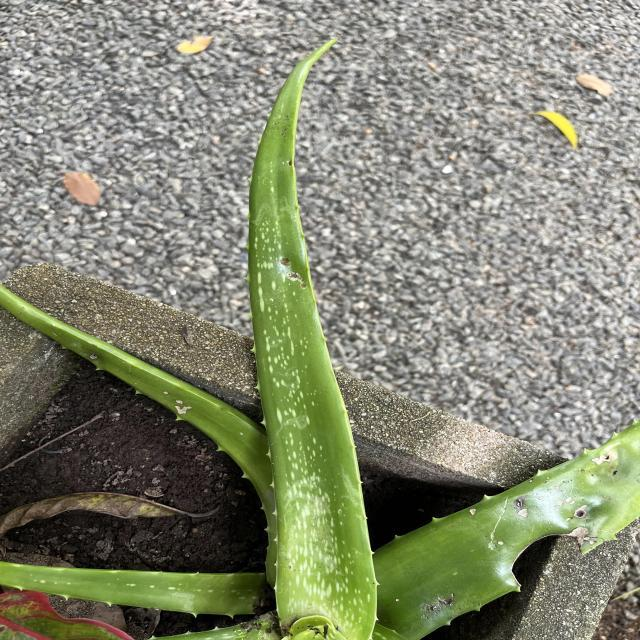Aloe vera: (246, 34, 388, 640)
